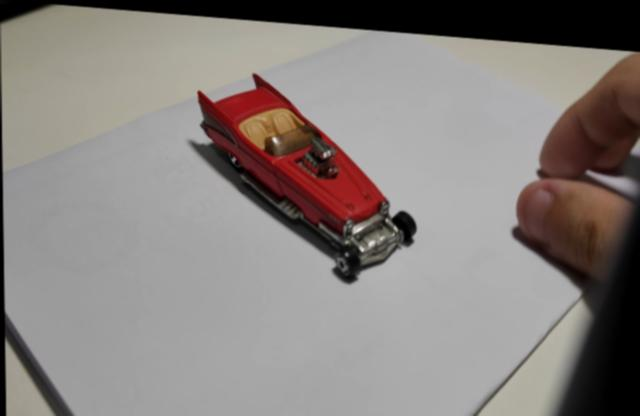03_V8: (192, 71, 417, 280)
